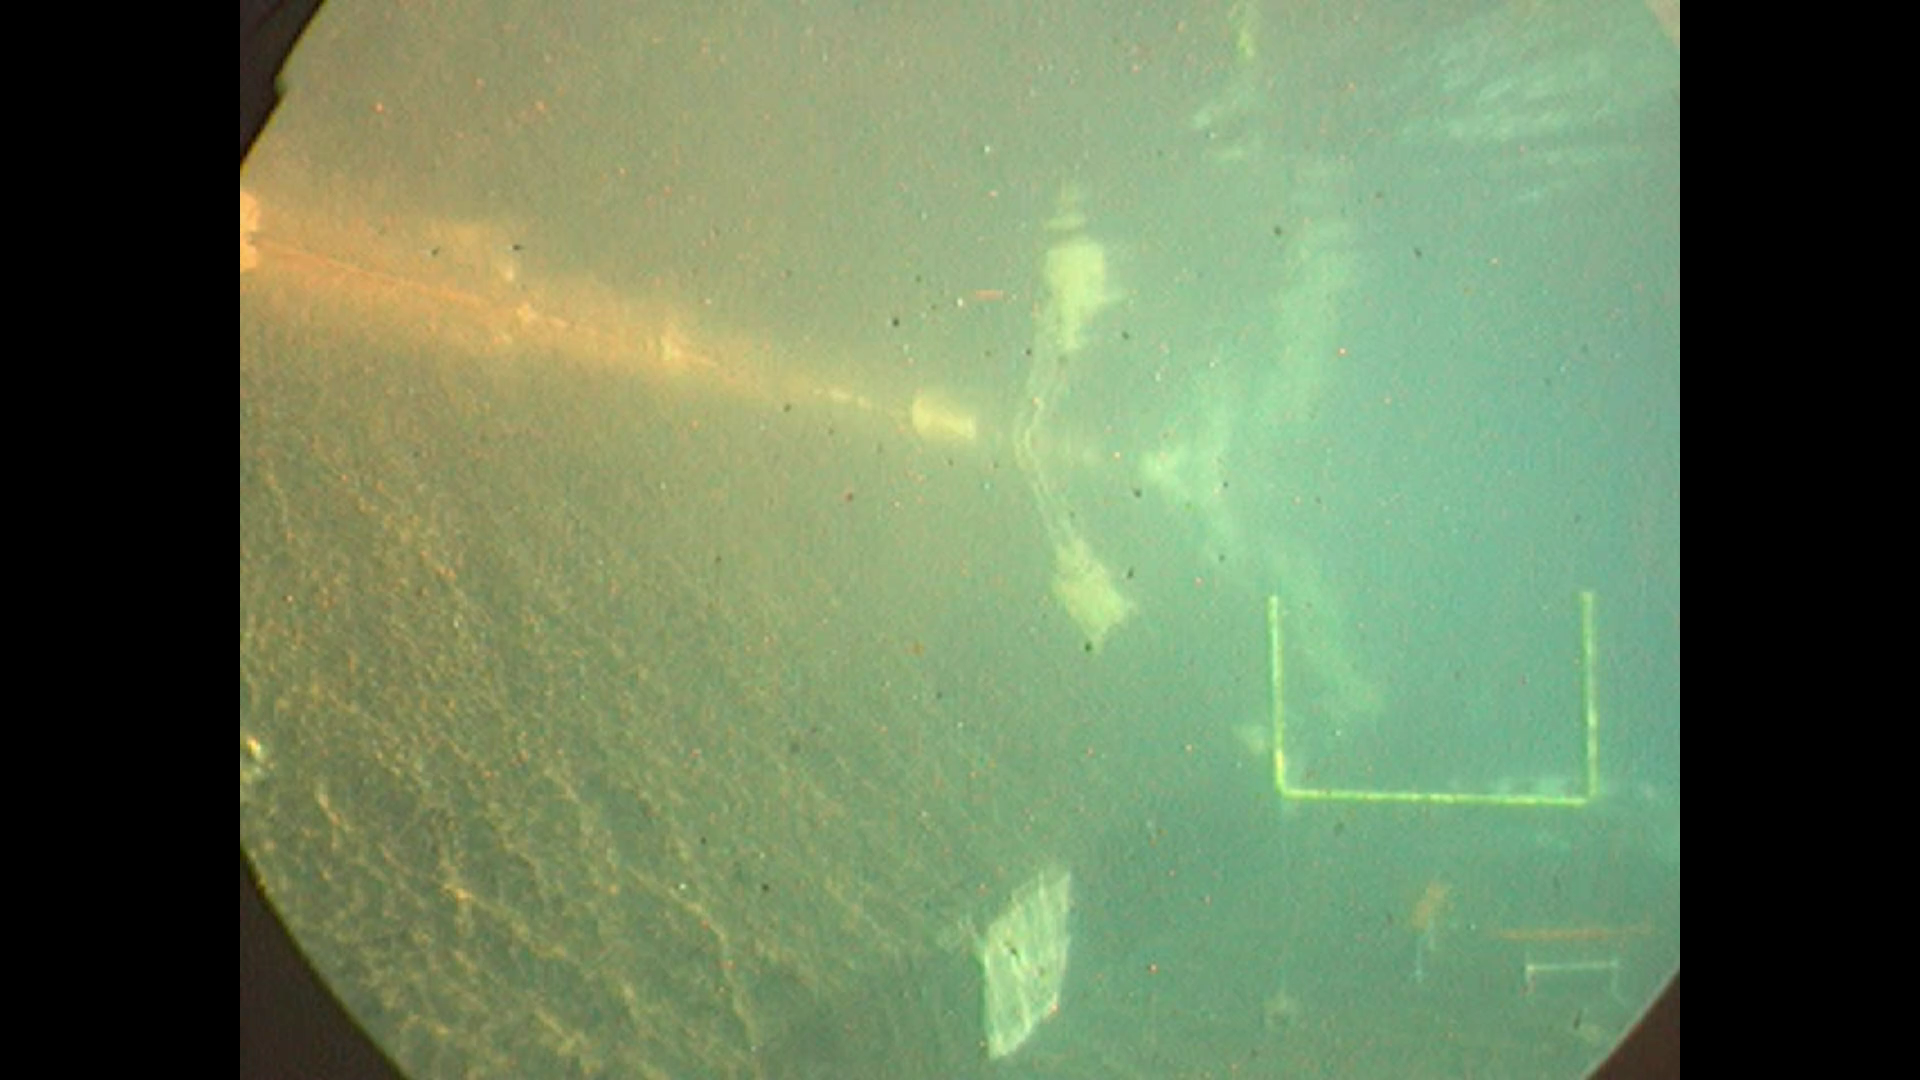gate: (1267, 585, 1602, 810)
